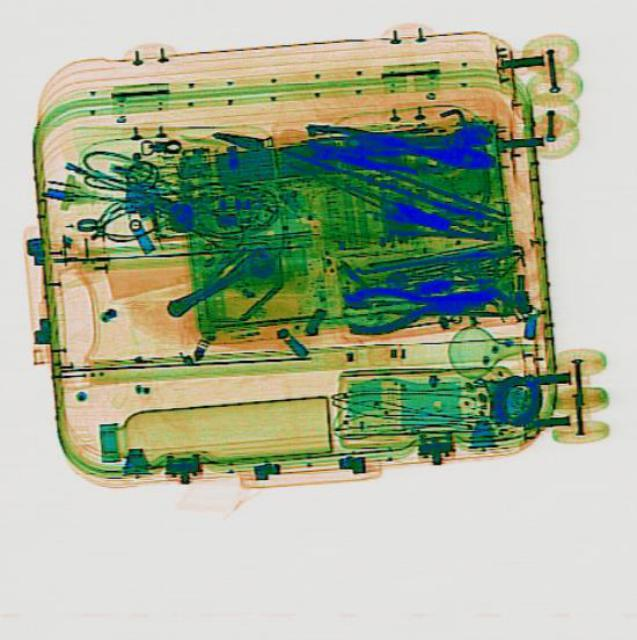Pliers: (338, 270, 501, 338), (300, 120, 493, 176)
